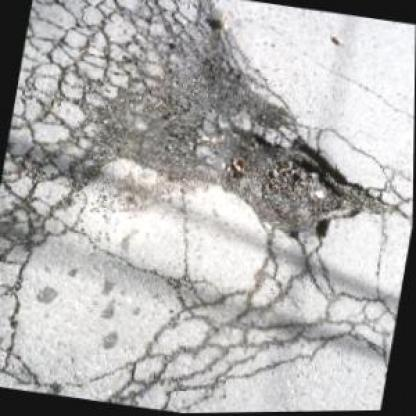pothole: (207, 121, 406, 258)
